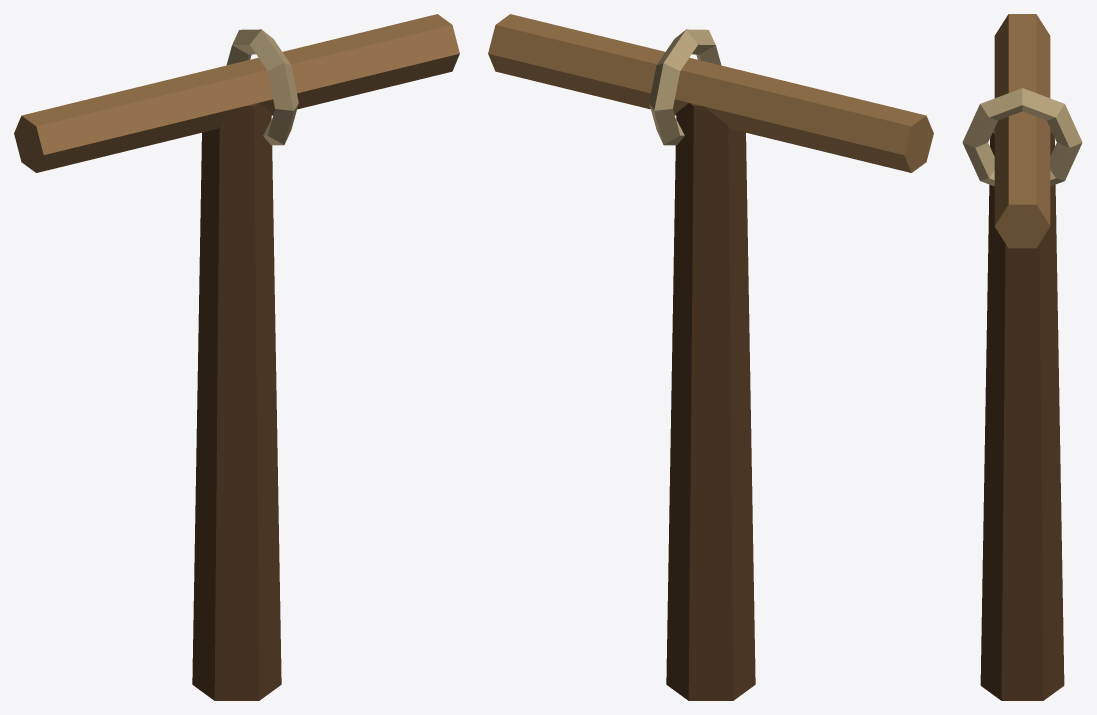
File: Hunter_Bird_Snare_Sprung.glb
3 renders of one model, left to right at view 1: azimuth 30°, elevation 25°; view 2: azimuth 150°, elevation 25°; view 3: azimuth 270°, elevation 25°, orthographic. The views are drawn at different scales.
Parts seen in each view (by area): view 1: Hunter_Bird_Snare_Sprung; view 2: Hunter_Bird_Snare_Sprung; view 3: Hunter_Bird_Snare_Sprung.
Boxes of the visible parts, x1,y1,x2,y2 form: Hunter_Bird_Snare_Sprung: [14, 14, 459, 700]; Hunter_Bird_Snare_Sprung: [488, 14, 933, 700]; Hunter_Bird_Snare_Sprung: [962, 14, 1082, 700].
Bounding box in the file's own units: 0.84 × 1.25 × 0.224.
